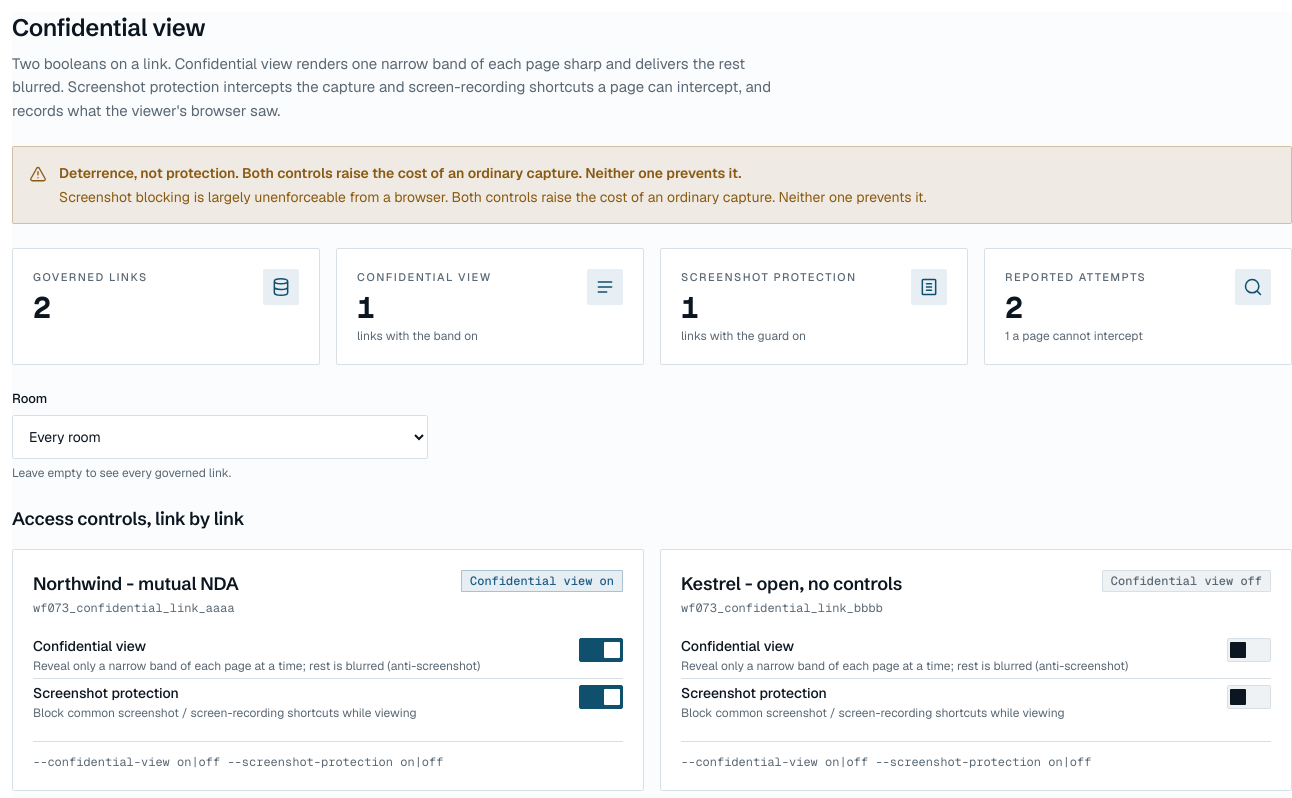
Test: a rejected setting › puts the message beside the switch that caused it
Expected: the heading "Confidential view" is shown, [12,13,205,42]
Click the switch named "Confidential view" below "Confidential view off" at point(1249, 650), box [1227,638,1271,662]
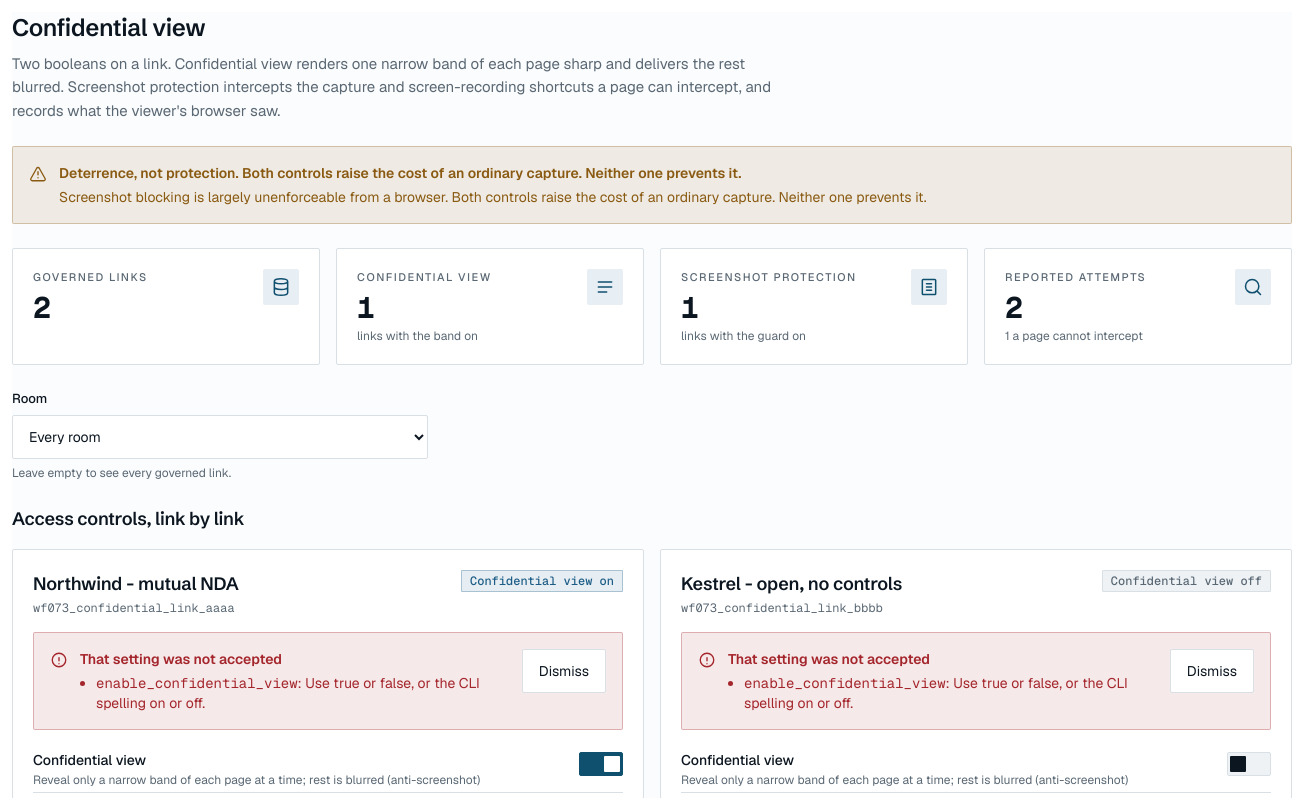
Expected: the heading "Confidential view" is shown, [12,13,205,42]
Result: the list item "Use true or false, or the CLI spelling on or off." below "wf073_confidential_link_bbbb" is shown at [744,674,1128,712]
Result: the 2nd text "enable_confidential_view" is shown at [744,674,946,692]
